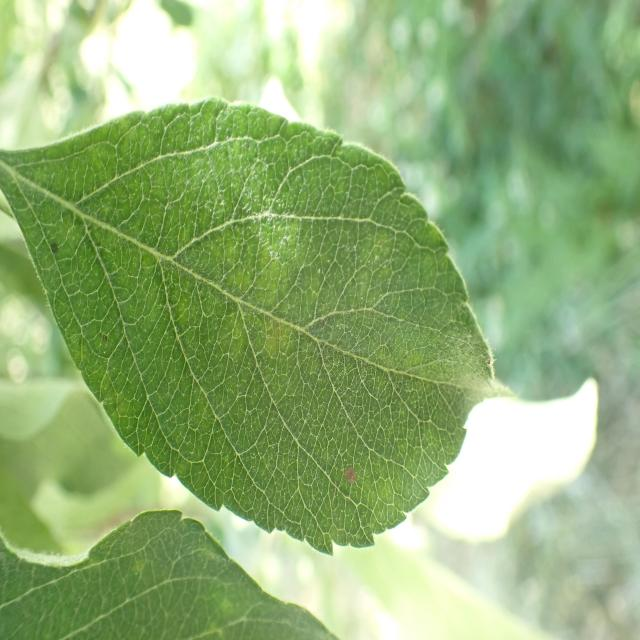scab: (50, 109, 483, 498)
